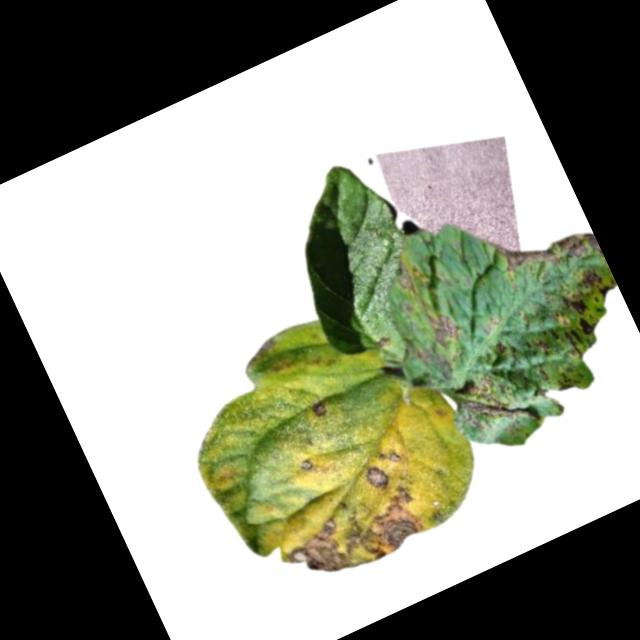Early_blight: (273, 479, 432, 597), (495, 207, 601, 291), (447, 361, 538, 449), (538, 288, 607, 365), (574, 258, 619, 305), (422, 306, 465, 350), (391, 259, 420, 297), (364, 463, 392, 494), (376, 444, 404, 469), (553, 371, 578, 397), (532, 336, 554, 361), (375, 332, 397, 355), (492, 337, 514, 359), (310, 399, 330, 421), (298, 457, 316, 475)
